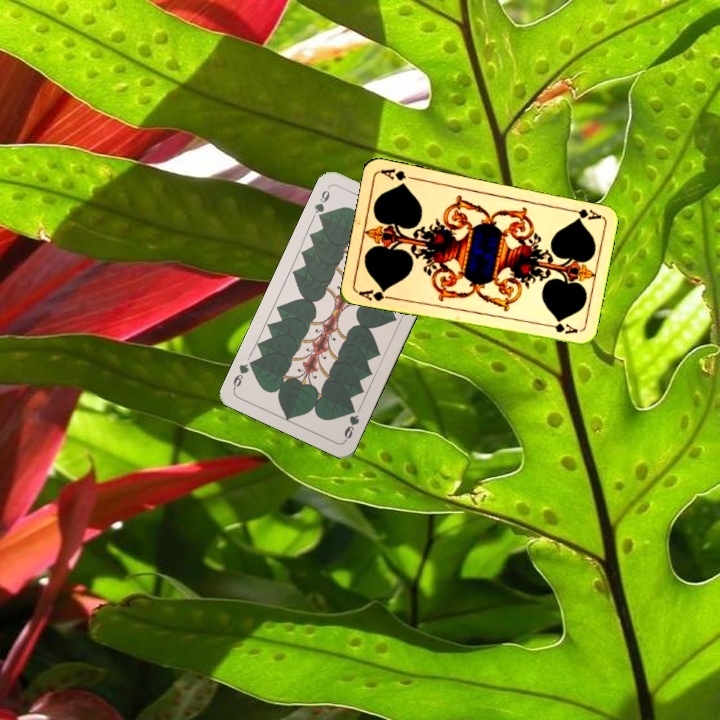G9: (340, 402, 362, 444), (310, 183, 332, 224)
GA: (354, 285, 395, 304), (562, 204, 603, 222)
